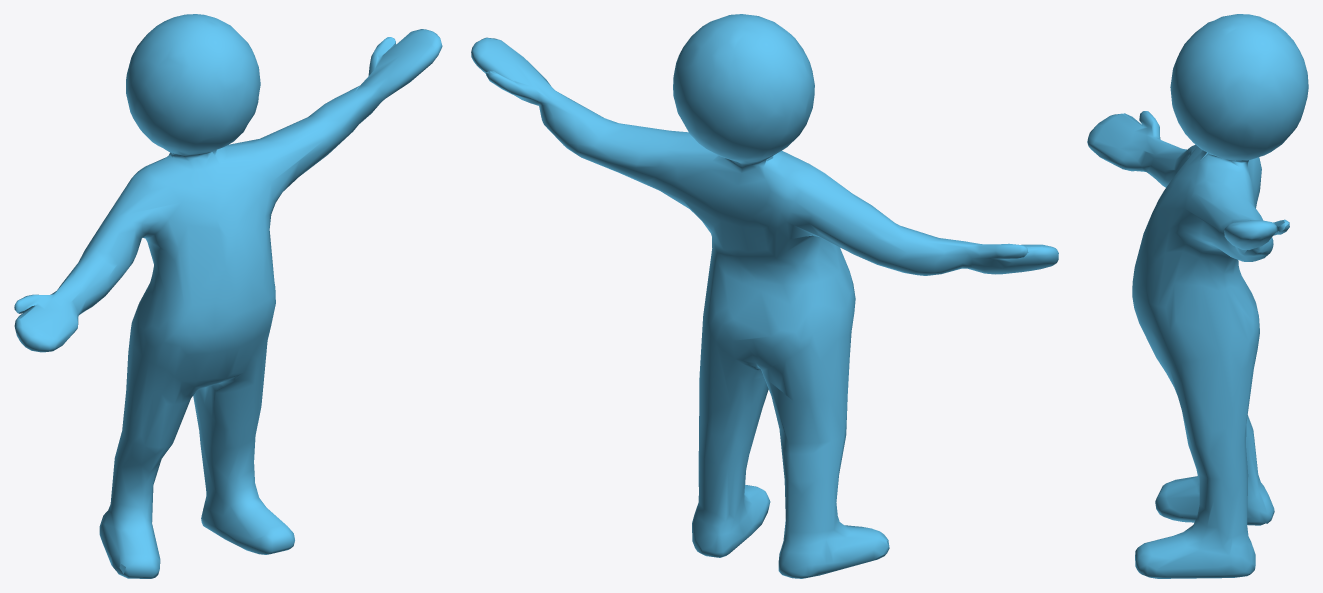
Rendered from Doll.FBX.
3 renders of one model, left to right at view 1: azimuth 30°, elevation 25°; view 2: azimuth 150°, elevation 25°; view 3: azimuth 270°, elevation 25°, orthographic. The views are drawn at different scales.
Visible parts, largest first — view 1: doll; view 2: doll; view 3: doll.
Boxes of the visible parts, bbox=[...] form: doll: bbox=[14, 14, 442, 578]; doll: bbox=[471, 14, 1058, 578]; doll: bbox=[1087, 14, 1308, 578].
Bounding box in the file's own units: 21.32 × 21.49 × 8.03.
1 material, 1 textured.
